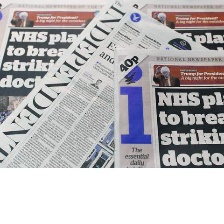news_paper: (0, 0, 224, 169), (111, 45, 224, 170)
